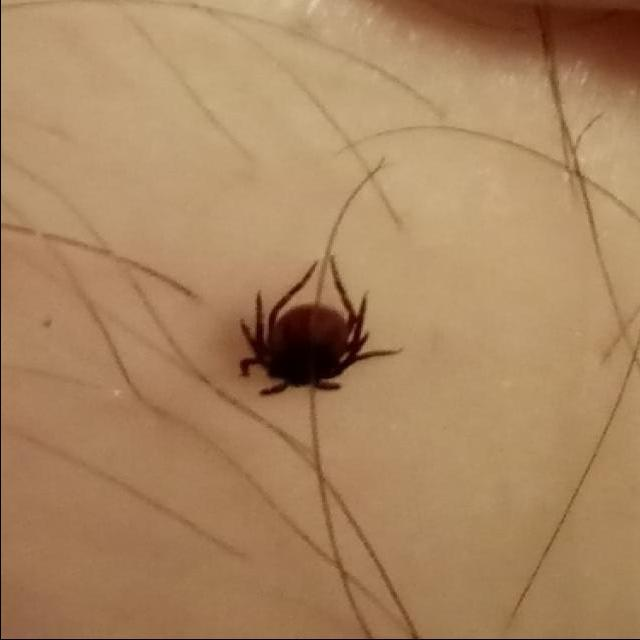Ixodes Ricinus-F: (239, 256, 404, 396)
